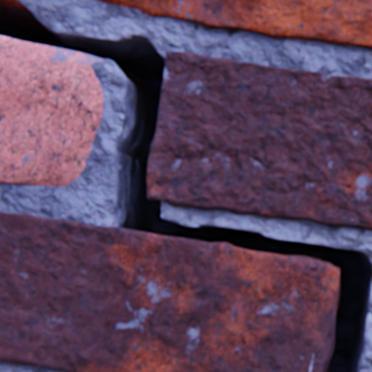brick: (0, 212, 338, 371), (148, 52, 371, 229), (0, 37, 103, 186), (95, 0, 371, 49)
crack: (0, 0, 371, 371)
